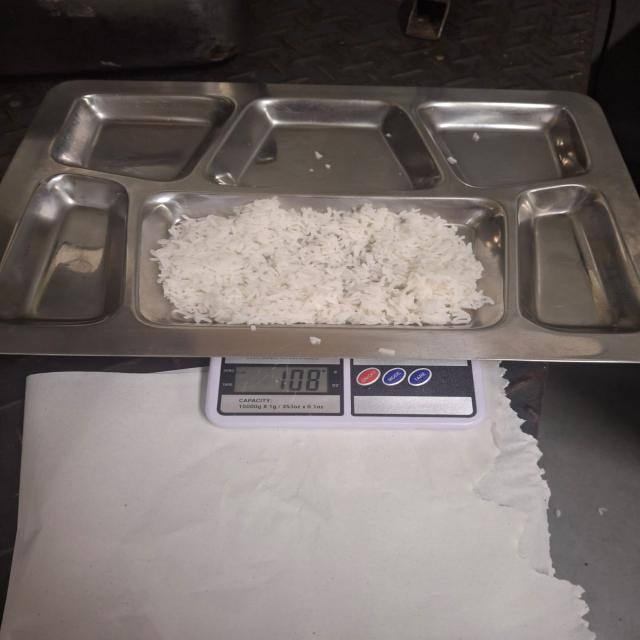White Rice: (150, 199, 490, 329)
